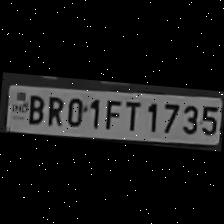0: (63, 94, 87, 130)
1: (84, 96, 104, 130), (141, 100, 160, 134)
3: (177, 101, 200, 136)
5: (198, 102, 221, 137)
7: (158, 101, 179, 135)
B: (23, 91, 45, 125)
F: (101, 96, 123, 132)
R: (43, 94, 65, 128)
T: (120, 98, 142, 133)
